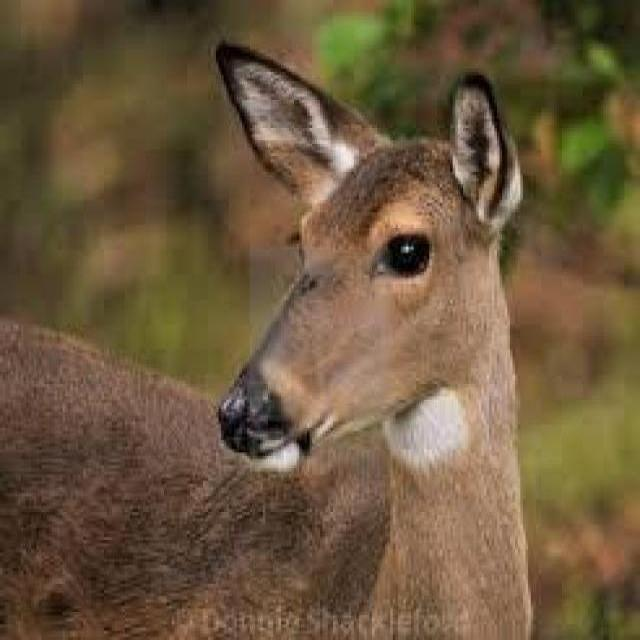deer: (3, 20, 544, 635)
